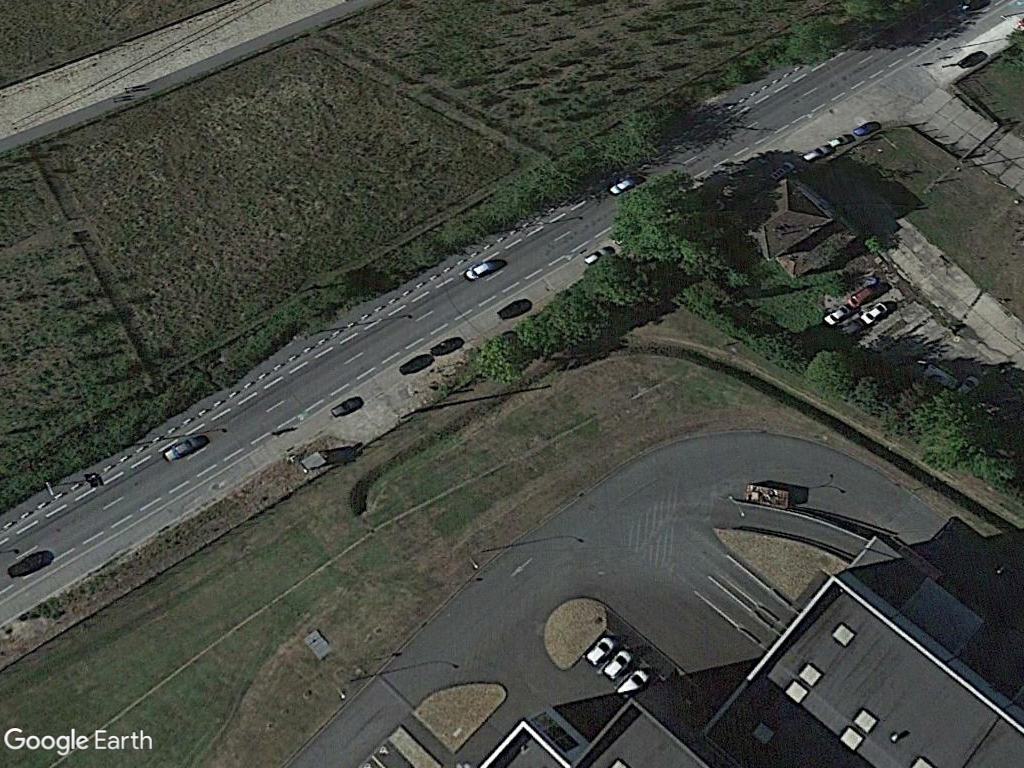car: (161, 431, 200, 465), (859, 297, 890, 330), (463, 256, 499, 283)
